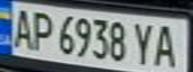3: (90, 16, 112, 61)
6: (51, 11, 75, 56)
8: (106, 17, 130, 63)
9: (72, 14, 93, 58)
A: (151, 20, 184, 69), (6, 4, 36, 50)
P: (27, 7, 57, 52)
Y: (130, 19, 157, 66)
